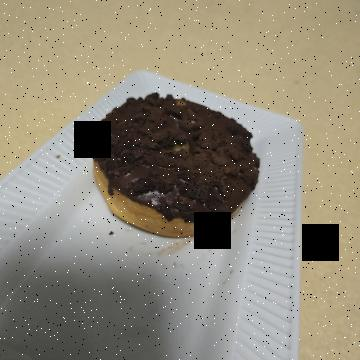doughnut: (82, 88, 256, 284)
